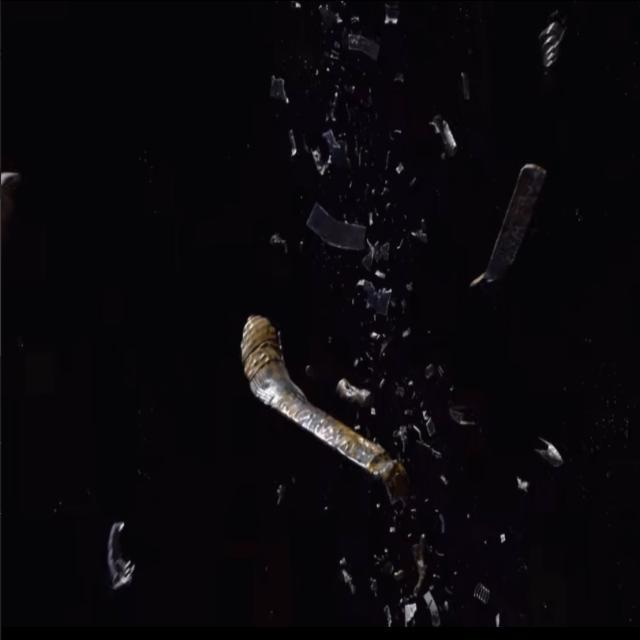large_debris: (230, 289, 406, 508), (472, 149, 554, 299), (302, 188, 378, 266), (99, 506, 143, 601), (535, 3, 571, 80), (420, 100, 458, 165), (308, 120, 346, 178), (533, 423, 567, 477), (345, 25, 383, 67), (445, 393, 477, 437), (264, 70, 292, 109), (420, 586, 444, 630), (453, 63, 477, 106), (397, 596, 419, 631), (468, 575, 492, 607), (266, 227, 288, 259), (380, 0, 405, 28), (285, 123, 301, 161), (390, 63, 408, 89), (391, 154, 407, 181)
